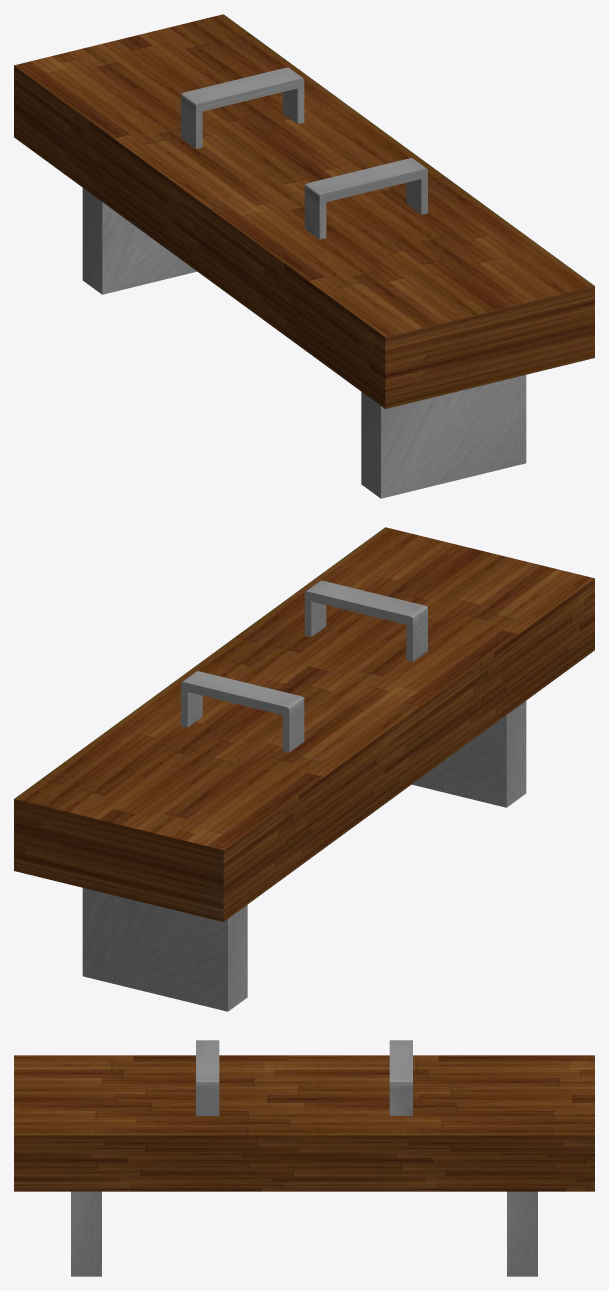
File: Bench.fbx
The picture shows the model from 3 angles, top to bottom: view 1: azimuth 30°, elevation 25°; view 2: azimuth 150°, elevation 25°; view 3: azimuth 270°, elevation 25°; orthographic projection. The views are drawn at different scales.
Visible parts, largest first — view 1: 벤치064; view 2: 벤치064; view 3: 벤치064.
Boxes of the visible parts, box(x1,y1,x2,y2) form: 벤치064: box(14, 14, 594, 498); 벤치064: box(14, 527, 594, 1011); 벤치064: box(14, 1040, 594, 1276).
Size of the model in its own units: 0.5671 by 0.6228 by 1.74.
Materials: 2 (2 with a texture image).
